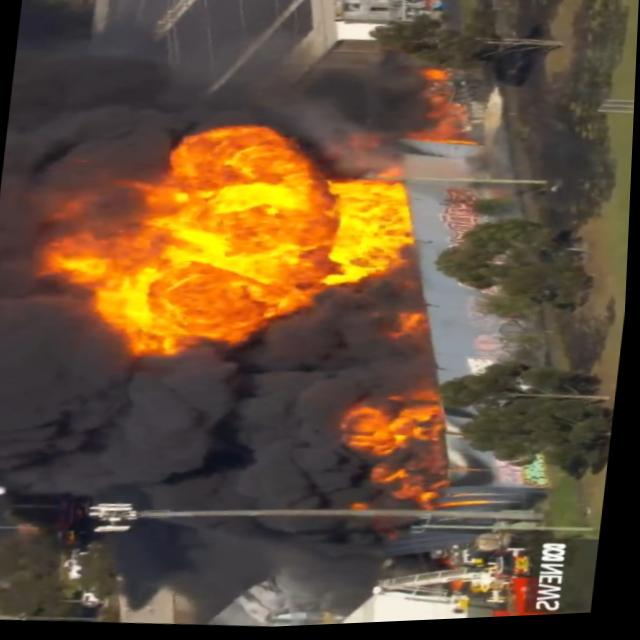Fire: (48, 107, 456, 379), (331, 400, 461, 518)
